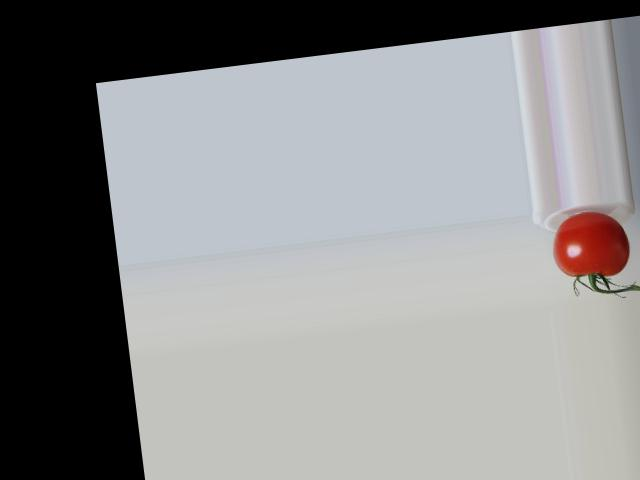tomato: (549, 207, 633, 282)
